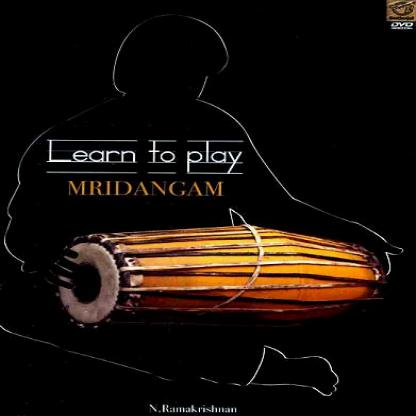Mridangam: (54, 222, 396, 333)
